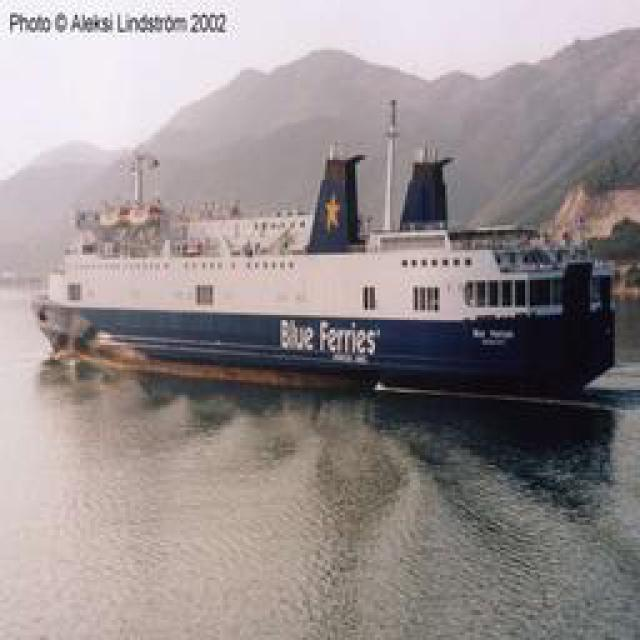Ship: (36, 126, 622, 404)
